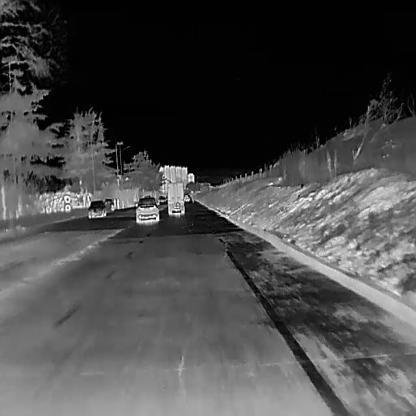car: (134, 195, 159, 223), (165, 181, 185, 215), (87, 198, 106, 218), (104, 197, 115, 211), (158, 194, 166, 202), (183, 193, 190, 201)
